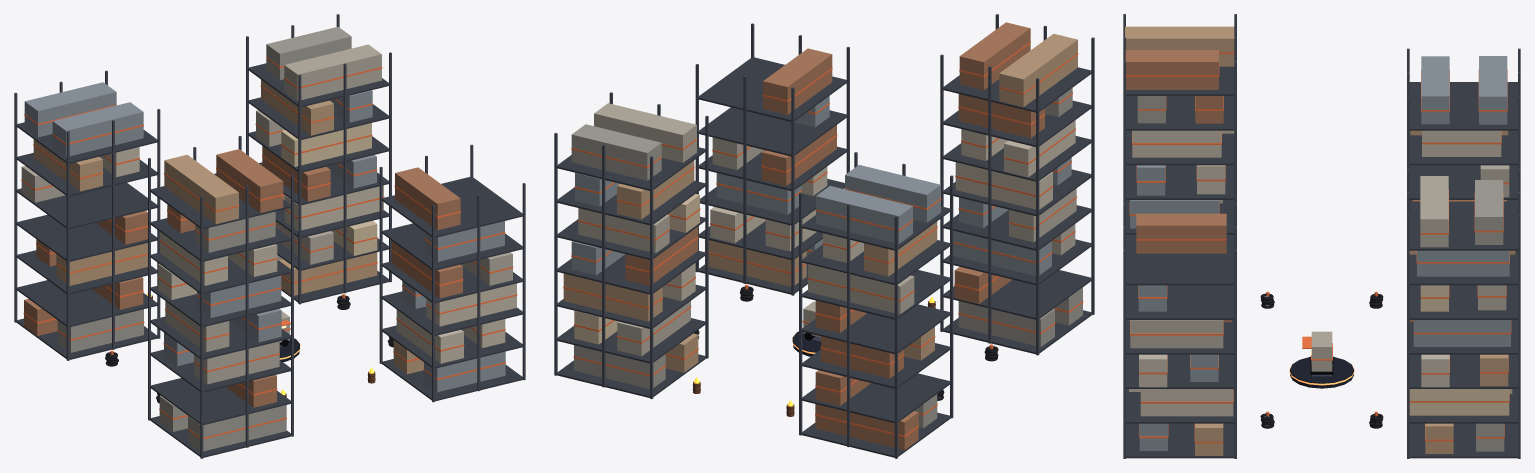
3 views of the same model, side by side, from view 1: azimuth 30°, elevation 25°; view 2: azimuth 150°, elevation 25°; view 3: azimuth 270°, elevation 25° (orthographic). The views are drawn at different scales.
Visible parts, largest first — view 1: district_city_vertical.lod1; view 2: district_city_vertical.lod1; view 3: district_city_vertical.lod1.
Boxes of the visible parts, x1,y1,x2,y2 form: district_city_vertical.lod1: (14,14,525,458); district_city_vertical.lod1: (554,14,1094,458); district_city_vertical.lod1: (1123,14,1520,458).
Size of the model in its own units: 32.2 by 24.8 by 32.2.
